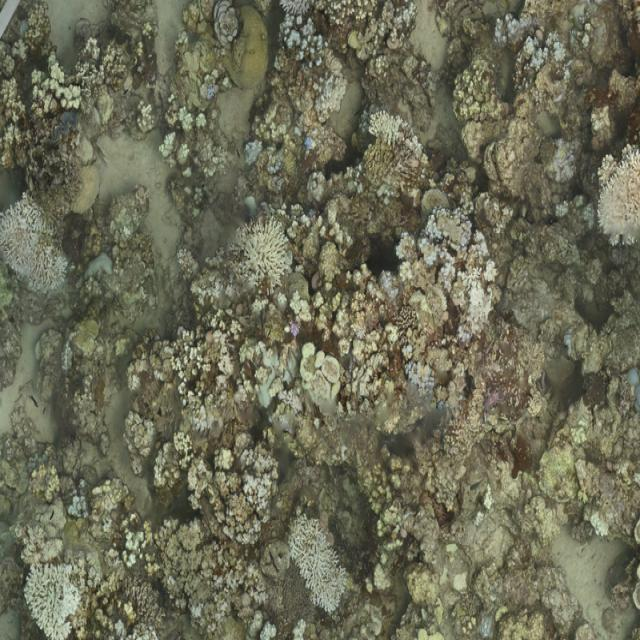Bleached Coral: (422, 211, 504, 340), (0, 196, 76, 311), (287, 495, 353, 618), (23, 547, 86, 640), (492, 11, 578, 77), (236, 218, 299, 293), (240, 435, 277, 520), (370, 106, 418, 171), (282, 12, 327, 65)
